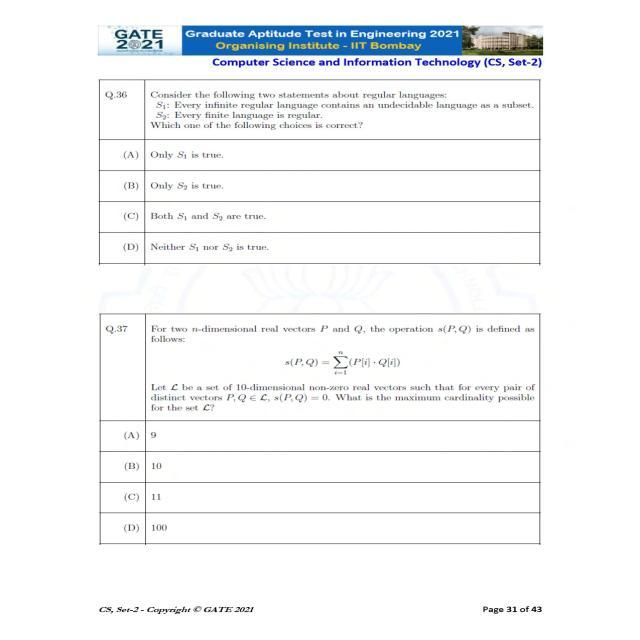Answer_Block: (97, 424, 540, 546), (97, 142, 540, 262)
Question_Answer_Block: (97, 314, 540, 545), (97, 81, 540, 261)
Question_Block: (97, 314, 540, 422), (97, 81, 540, 140)
Question_Paper_Area: (97, 81, 540, 545)
